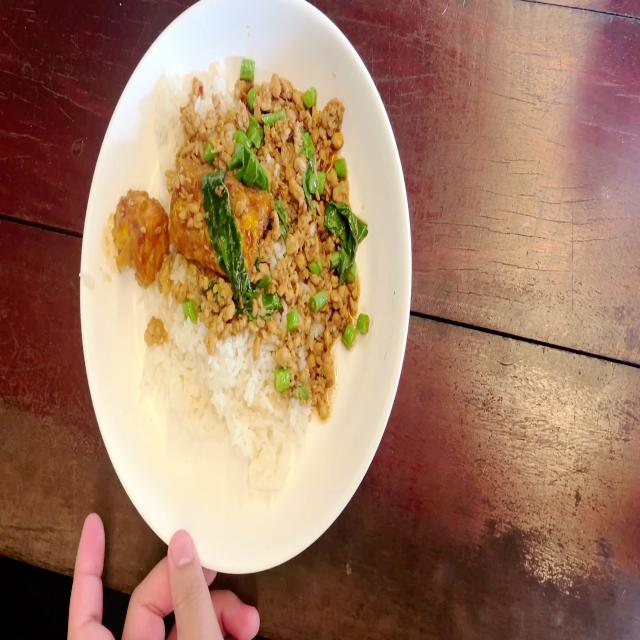fried_tofo: (167, 175, 266, 276), (120, 190, 164, 278)
minced_pork: (266, 181, 366, 416), (188, 60, 354, 181), (163, 272, 272, 330)
rice: (146, 331, 291, 493), (156, 74, 182, 170), (203, 63, 229, 104)
stir_fried_basil: (116, 55, 369, 502)
